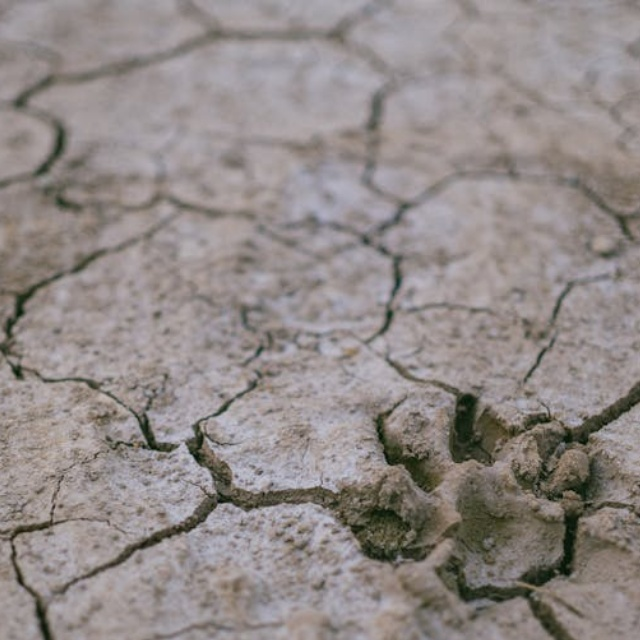网状裂隙: (0, 12, 640, 640)
